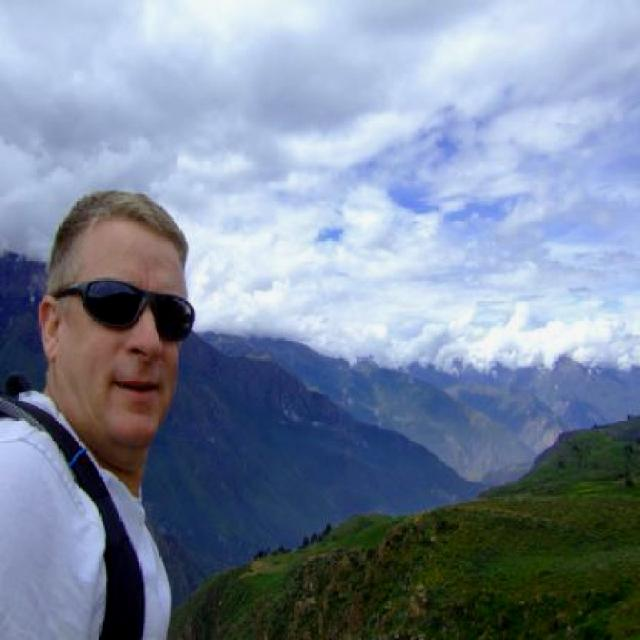face_nomask: (76, 285, 192, 418)
glasses: (49, 278, 198, 345)
head_nohelmet: (49, 181, 194, 262)
person: (0, 180, 208, 640)
